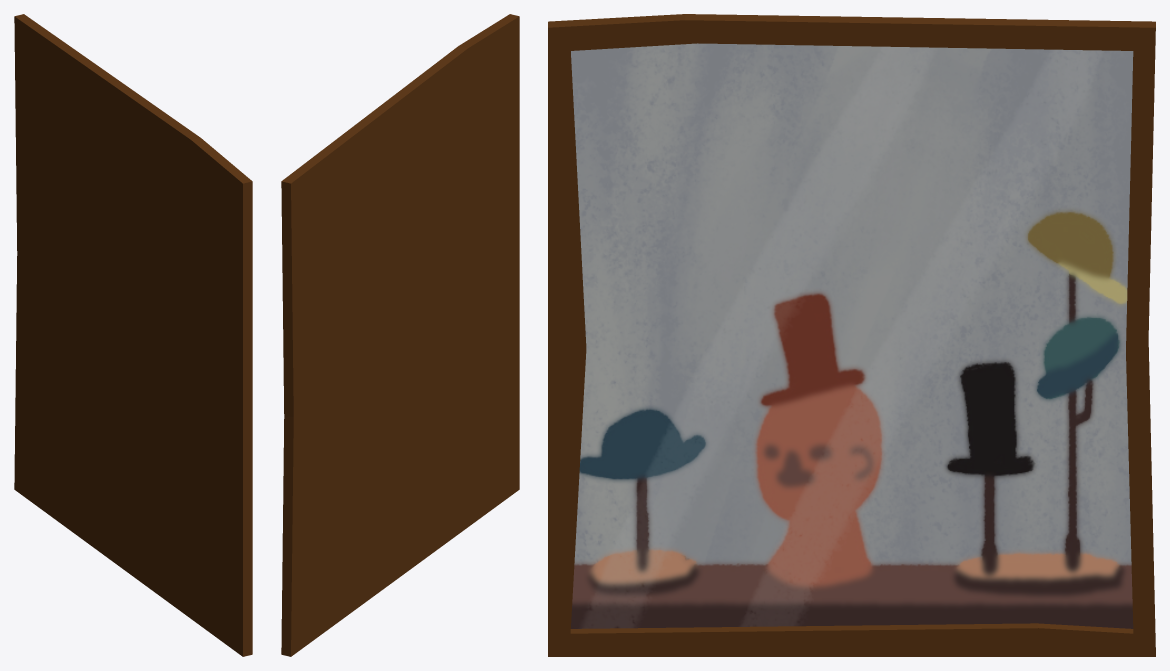
File: ShoeShopWindowfbx.fbx
3 renders of one model, left to right at view 1: azimuth 30°, elevation 25°; view 2: azimuth 150°, elevation 25°; view 3: azimuth 270°, elevation 25°, orthographic. The views are drawn at different scales.
Visible parts, largest first — view 1: Cube.025; view 2: Cube.025; view 3: Cube.025.
Part boxes in pixels (x1=…): Cube.025: x1=14, y1=14, x2=252, y2=656; Cube.025: x1=281, y1=14, x2=519, y2=656; Cube.025: x1=548, y1=14, x2=1155, y2=656.
Size of the model in its own units: 5.99 by 287 by 248.
